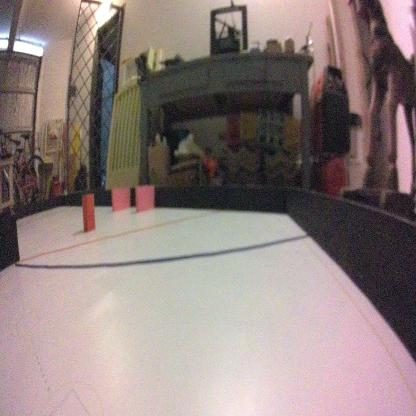magenta: (133, 182, 153, 212), (111, 187, 129, 209)
red: (78, 184, 97, 230)
